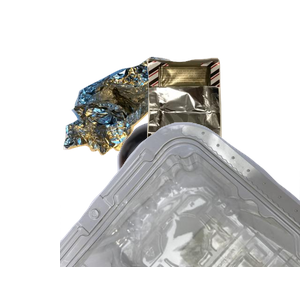glass: (115, 120, 300, 300)
metal: (61, 54, 225, 202)
plastic: (60, 120, 300, 300)
trash: (144, 55, 300, 197)
